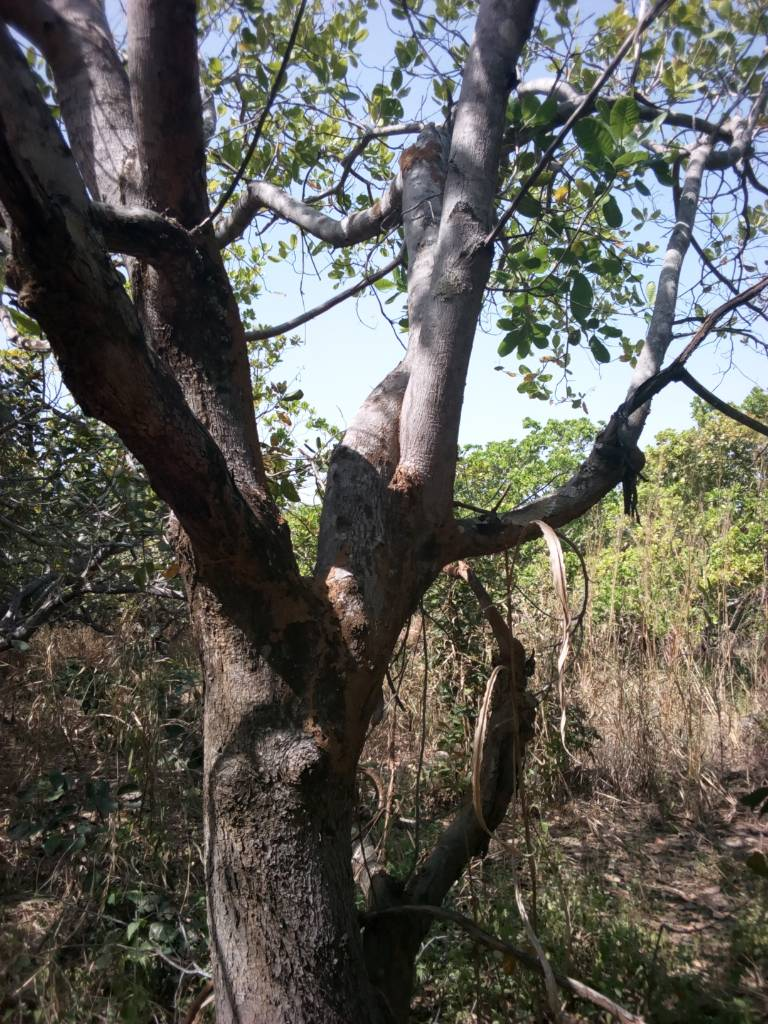Termites: (260, 566, 375, 755), (380, 457, 458, 550)
